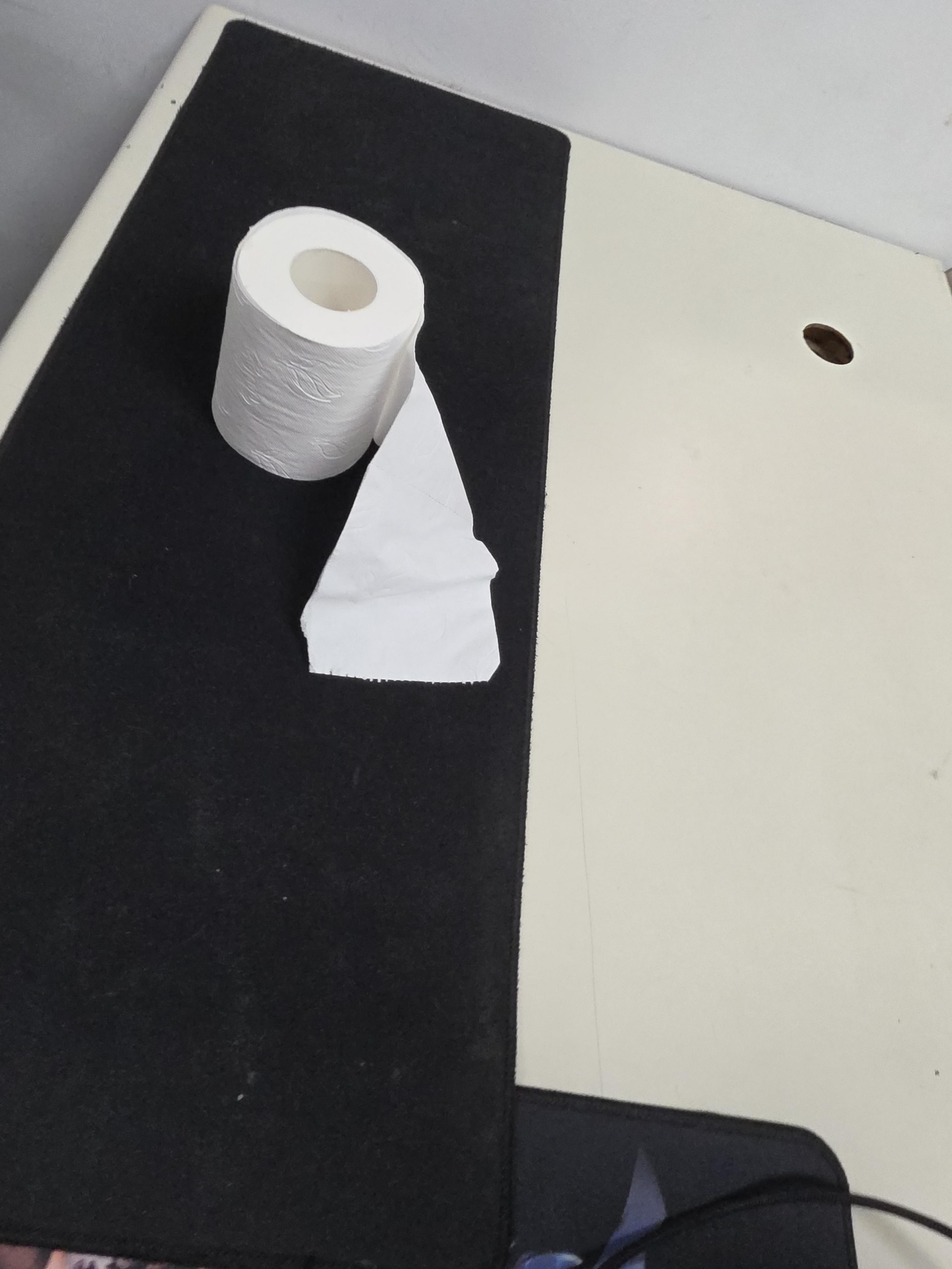tissue: (211, 206, 501, 685)
